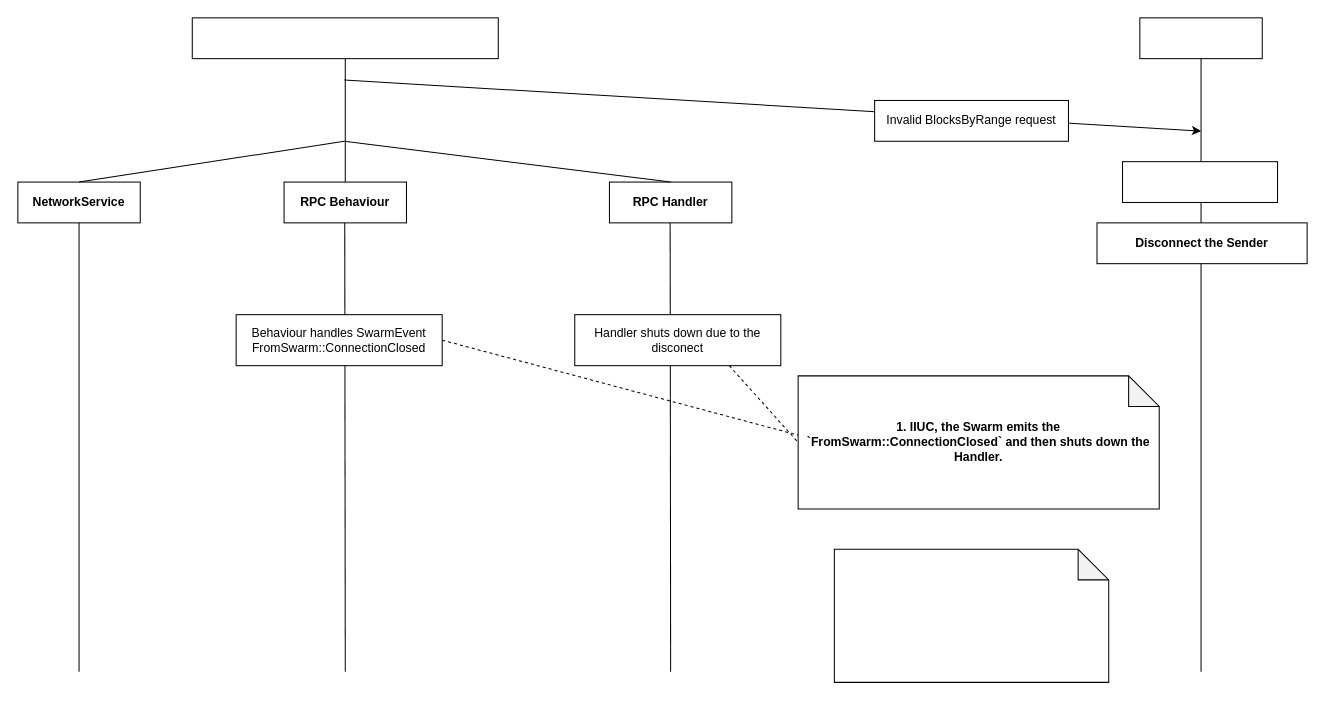
This 1325x701 diagram has some shape labels left out. Each missing label, with the centre of its shape:
Bans the Sender: [1199,181]
Receiver: [1200,38]
Sender: [344,38]
x. The handler doesn't send `EndOfStream` since it has already been shut down.: [971,615]
